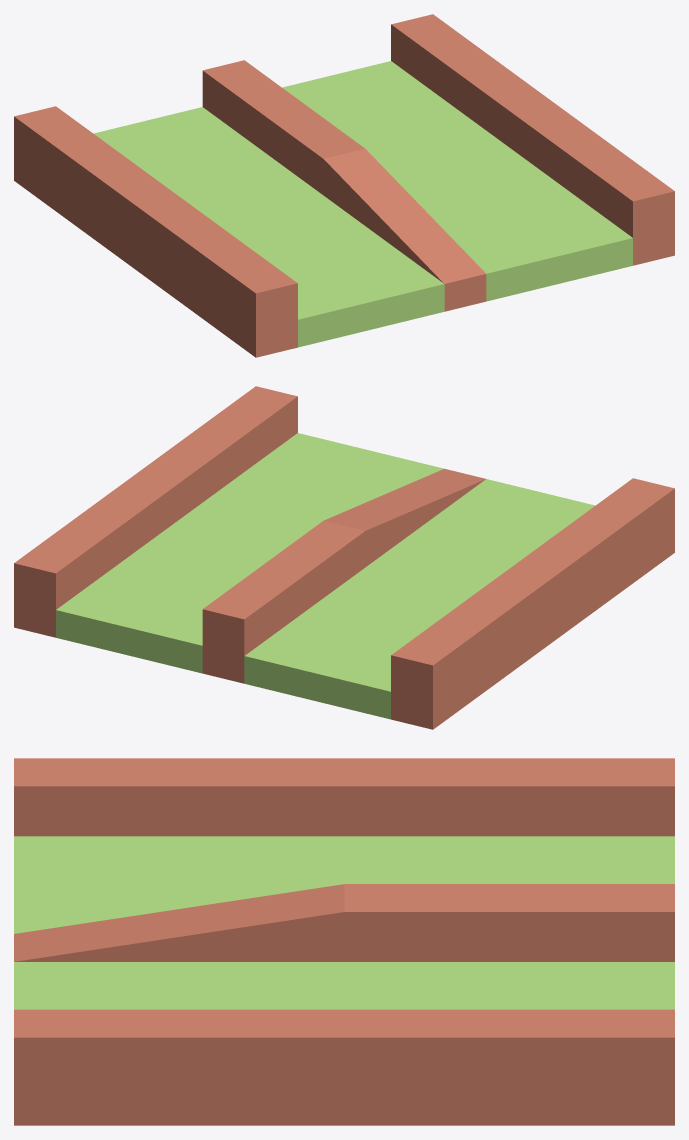
The model's file is Split_start_01.glb.
3 renders of one model, top to bottom at view 1: azimuth 30°, elevation 25°; view 2: azimuth 150°, elevation 25°; view 3: azimuth 270°, elevation 25°, orthographic. The views are drawn at different scales.
Visible parts, largest first — view 1: Mesh1 Split_start Model; view 2: Mesh1 Split_start Model; view 3: Mesh1 Split_start Model.
Part boxes in pixels (x1,y1,x2,y2): Mesh1 Split_start Model: (14, 14, 674, 357); Mesh1 Split_start Model: (14, 386, 674, 729); Mesh1 Split_start Model: (14, 758, 674, 1125).
Bounding box in the file's own units: 3 × 0.44 × 3.
